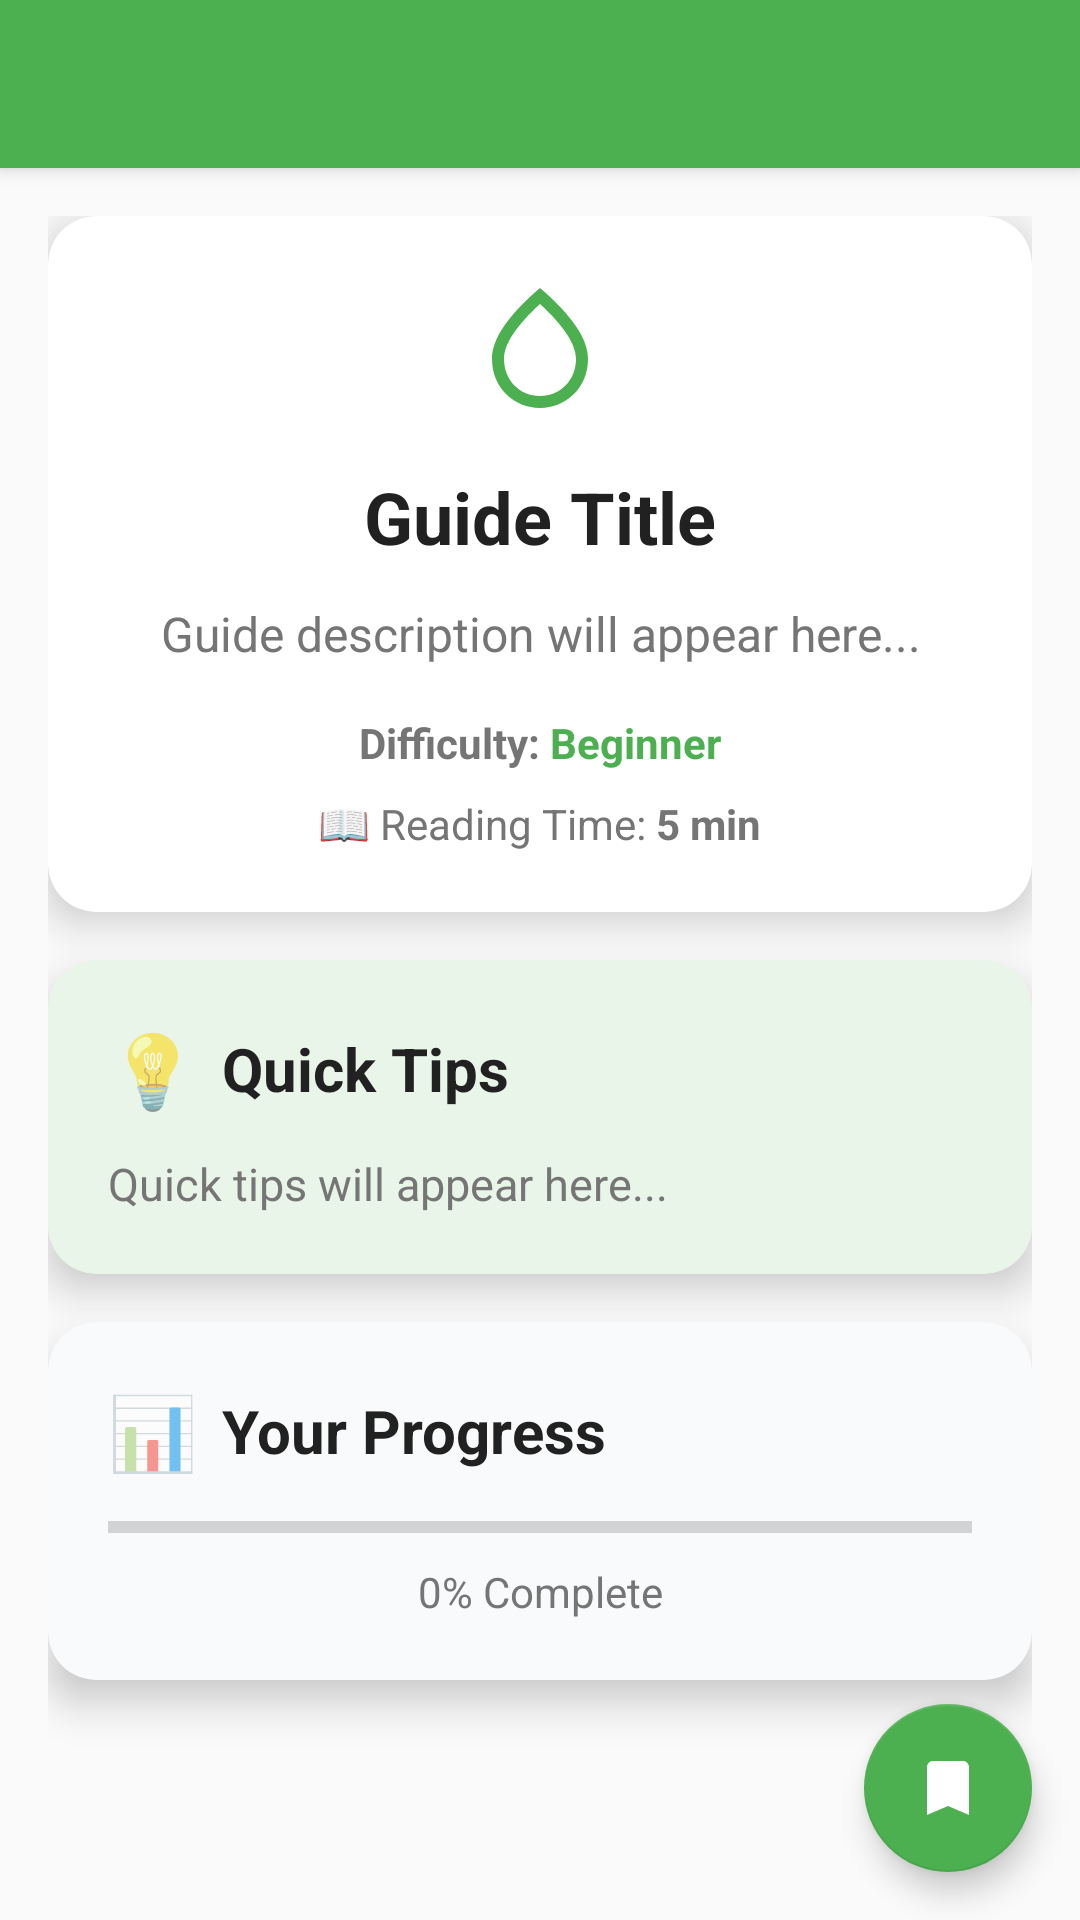

Where to tap for icons on this 1080px x 1920px app screen, as (x,y):
Quick Action: (948,1788)
